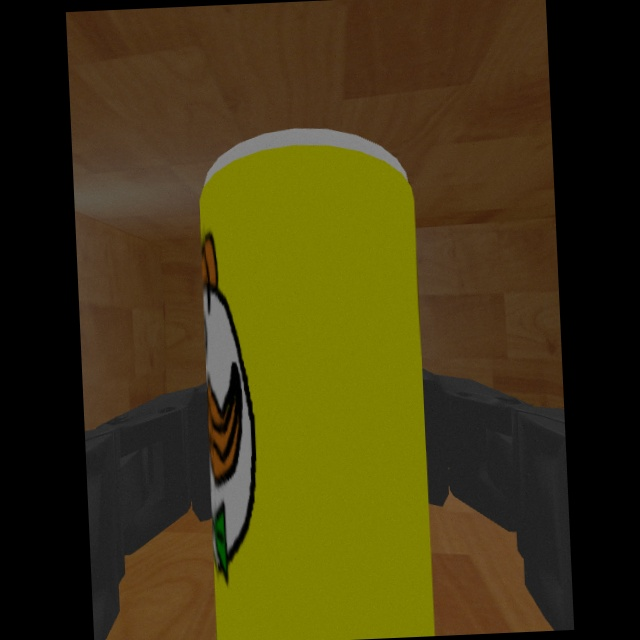chipsdose_gelb: (200, 128, 435, 640)
